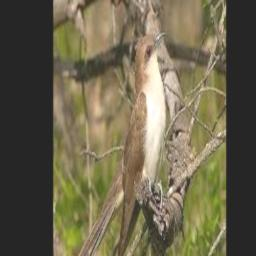Cuckoo: (117, 30, 168, 256)
